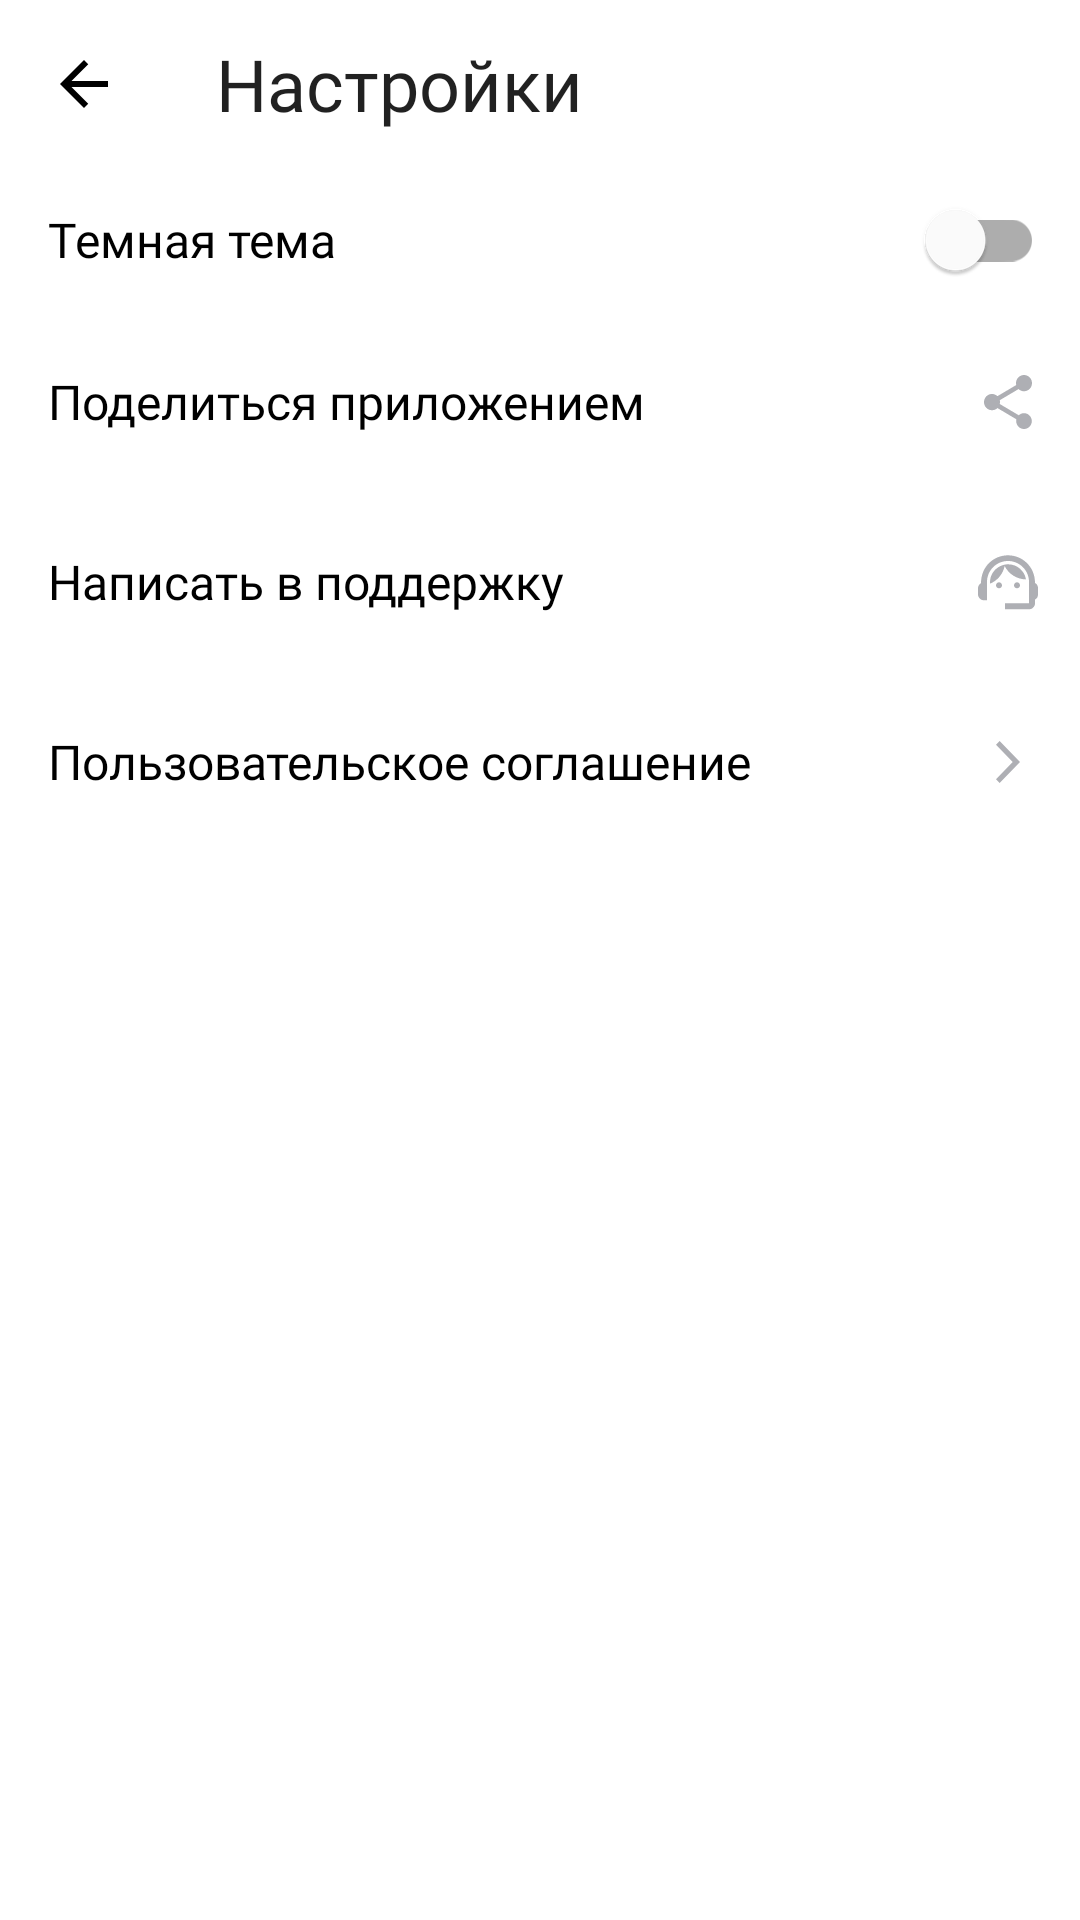

Screen size 1080px x 1920px. Icon name, then its box in pixels as [left=x1, top=y1, right=x2, bottom=y2]:
arrowforward: [left=996, top=741, right=1020, bottom=783]
share: [left=984, top=375, right=1032, bottom=429]
support: [left=978, top=555, right=1038, bottom=609]
